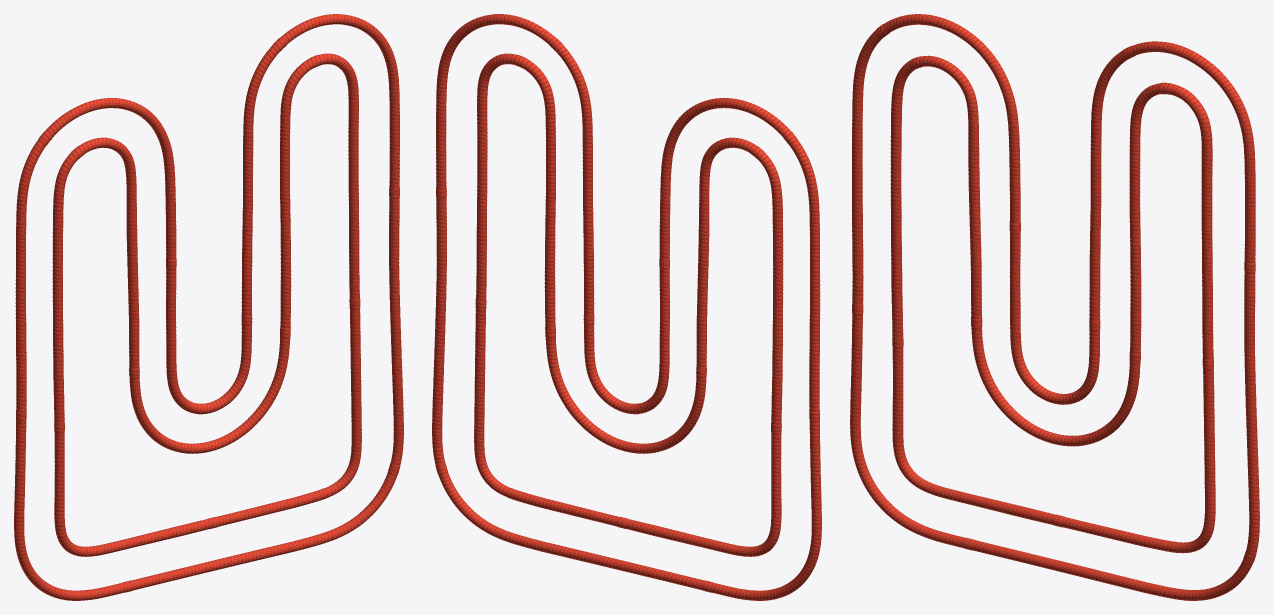
The model's file is ducts.obj.
3 renders of one model, left to right at view 1: azimuth 30°, elevation 25°; view 2: azimuth 150°, elevation 25°; view 3: azimuth 330°, elevation 25°, orthographic. The views are drawn at different scales.
Size of the model in its own units: 11.15 by 14.48 by 0.2778.
Materials: 1 (1 with a texture image).
